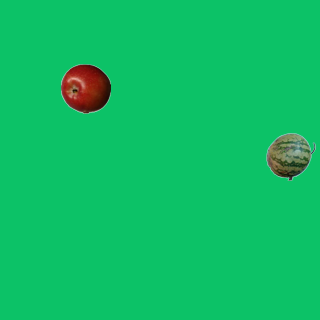Apple Braeburn: (60, 63, 110, 113)
Watermelon: (265, 131, 315, 181)
